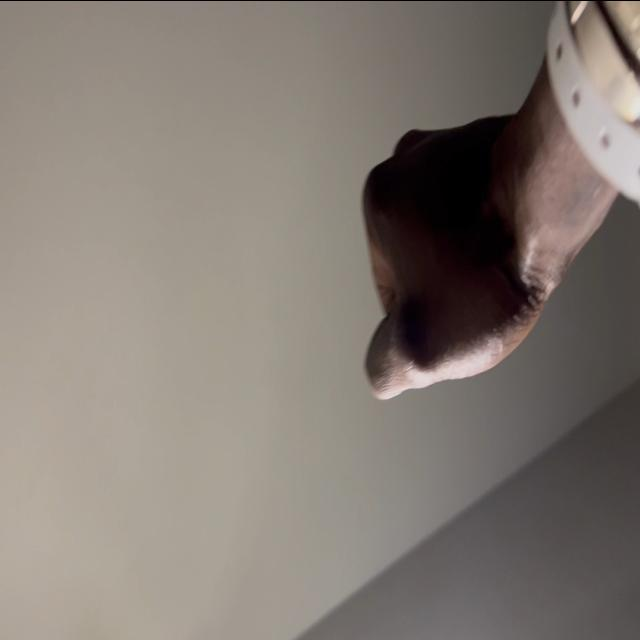Rock: (361, 114, 567, 398)
